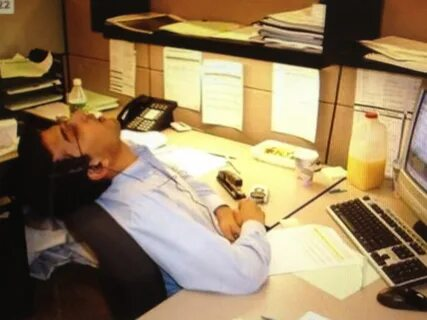sleep: (17, 109, 273, 296)
